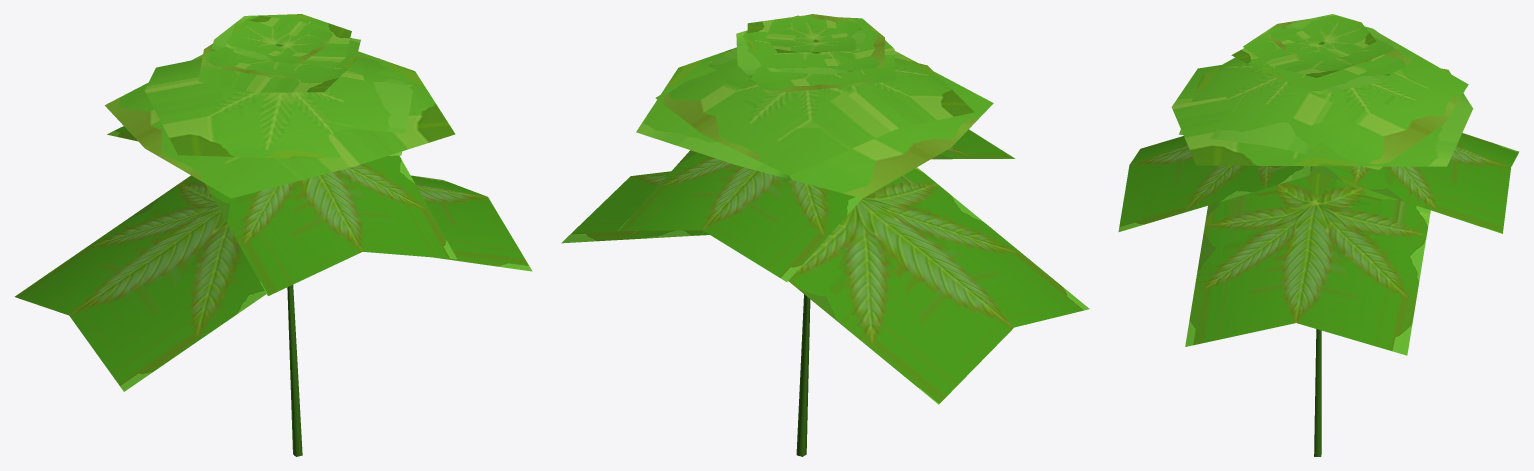
The model's file is CannabisStage02_01.fbx.
The picture shows the model from 3 angles, left to right: view 1: azimuth 30°, elevation 25°; view 2: azimuth 150°, elevation 25°; view 3: azimuth 270°, elevation 25°; orthographic projection. The views are drawn at different scales.
Visible parts, largest first — view 1: CannabisStage02_01_LOD0; view 2: CannabisStage02_01_LOD0; view 3: CannabisStage02_01_LOD0.
Boxes of the visible parts, x1,y1,x2,y2 form: CannabisStage02_01_LOD0: [14, 14, 532, 456]; CannabisStage02_01_LOD0: [561, 14, 1089, 456]; CannabisStage02_01_LOD0: [1118, 14, 1519, 456].
Size of what is drawn, in the model's own units: 72.21 by 69.42 by 60.97.
